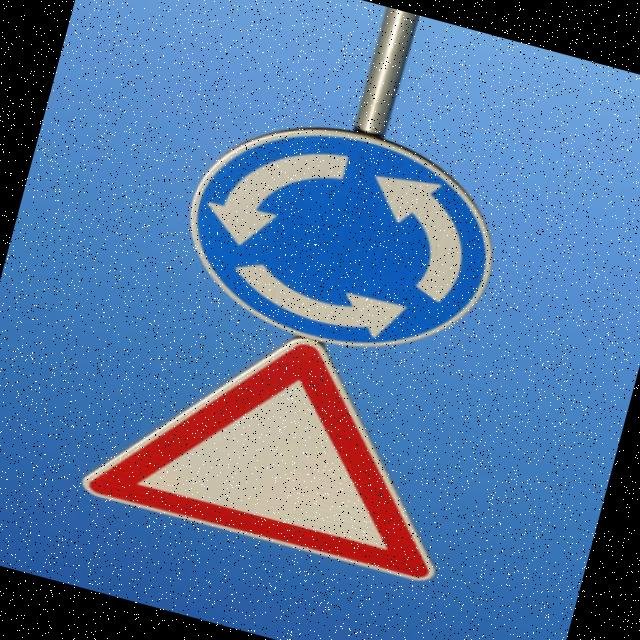round_about: (142, 84, 518, 378)
